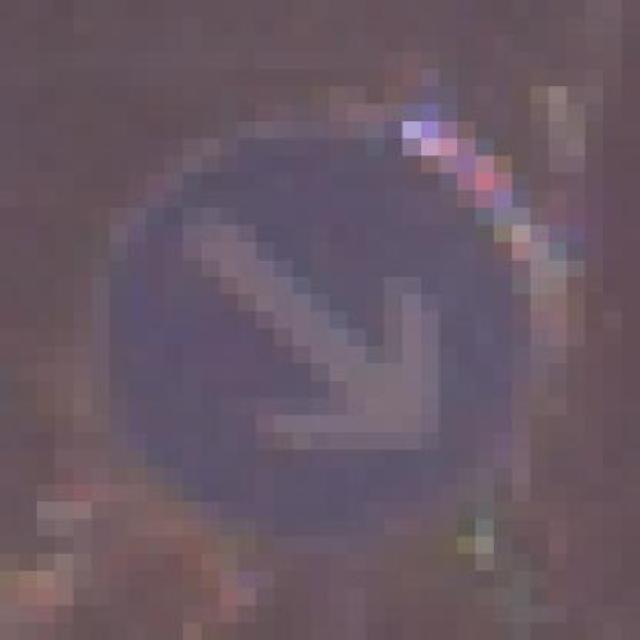Keep-Right: (73, 52, 604, 606)
